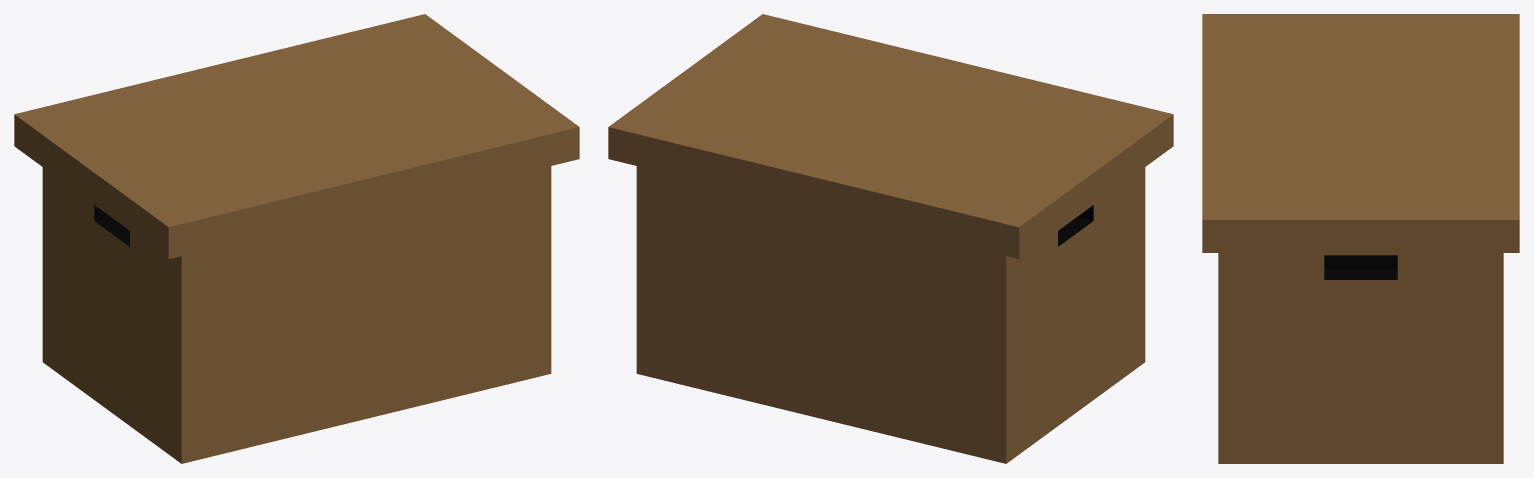
File: brownofficebox_modelingfbx.fbx
The picture shows the model from 3 angles, left to right: view 1: azimuth 30°, elevation 25°; view 2: azimuth 150°, elevation 25°; view 3: azimuth 270°, elevation 25°; orthographic projection. The views are drawn at different scales.
Parts seen in each view (by area): view 1: brownofficebox_modelingfbx; view 2: brownofficebox_modelingfbx; view 3: brownofficebox_modelingfbx.
Boxes of the visible parts, x1,y1,x2,y2 form: brownofficebox_modelingfbx: [14, 14, 579, 463]; brownofficebox_modelingfbx: [608, 14, 1173, 463]; brownofficebox_modelingfbx: [1202, 14, 1519, 463].
Size of the model in its own units: 396 by 228 by 258.
